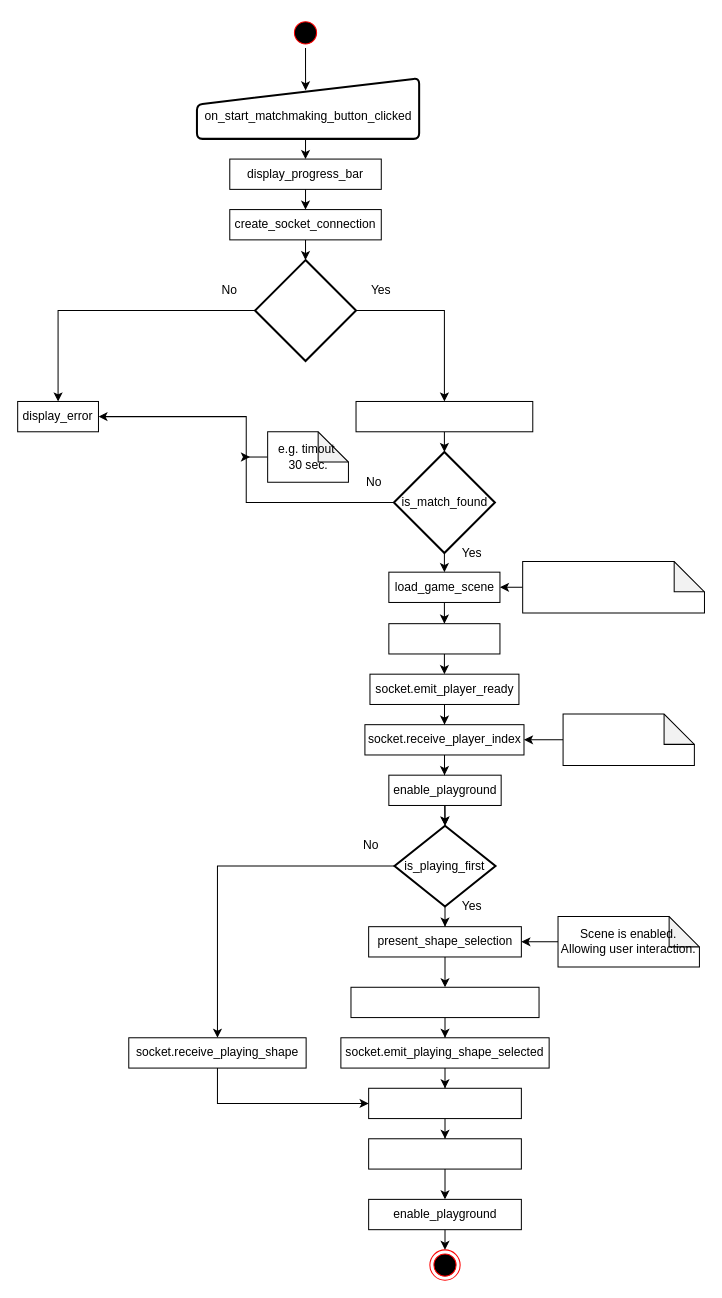
This 722x1298 diagram has some shape labels left out. The centre of each missing label's shape, as x and y in pixels:
is_connected: pixel 305 310
on_shape_to_play_with_selected: pixel 444 1002
Scene is disabled. Avoiding any user interactions.: pixel 613 587
scene._ready: pixel 444 638
Server randomly decides who plays first: pixel 628 739
socket.emit_player_set: pixel 444 1103
socket.emit_start_matchmaking: pixel 444 416
socket.receive_game_begin: pixel 444 1153
